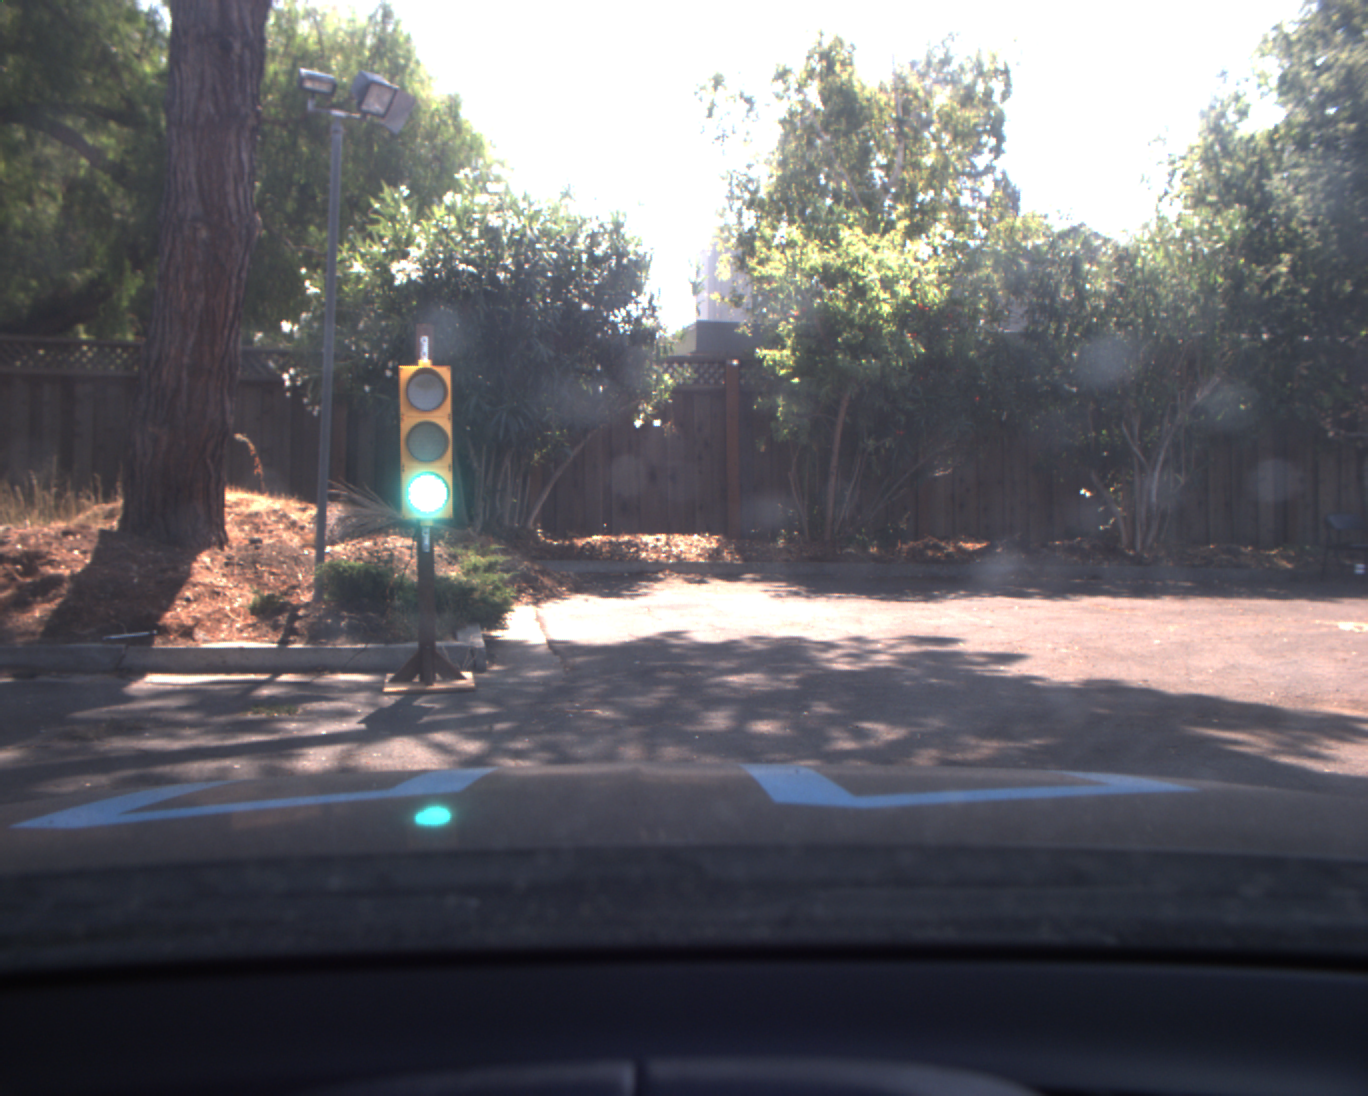green: (395, 361, 457, 522)
